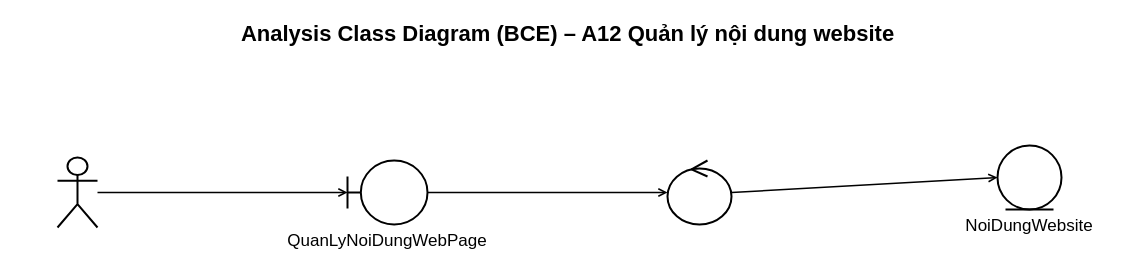
Image size: 1134x271. Some labels were removed from this diagram. The shapes that lost their labels are listed below. From the top down, each one's centre as x and y in pixels, then its label:
(x=77, y=192): Quản trị viên
(x=699, y=192): QuanLyNoiDungWebController
